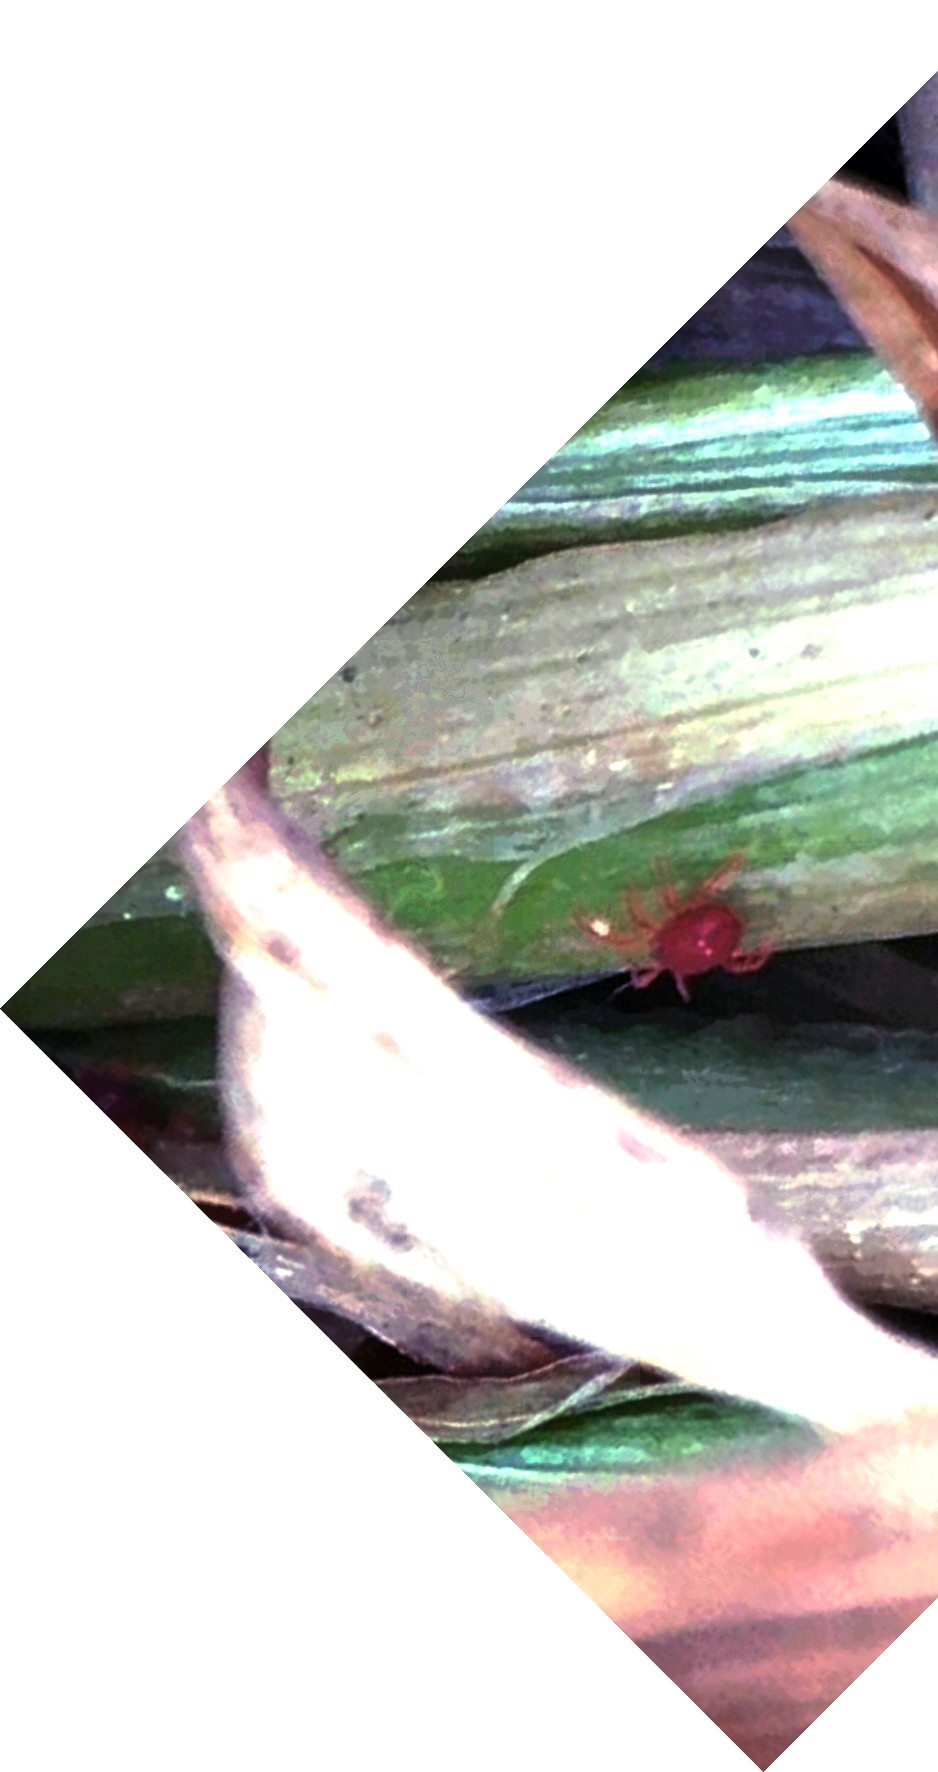Wheat Red Spider: (558, 840, 804, 1009)
